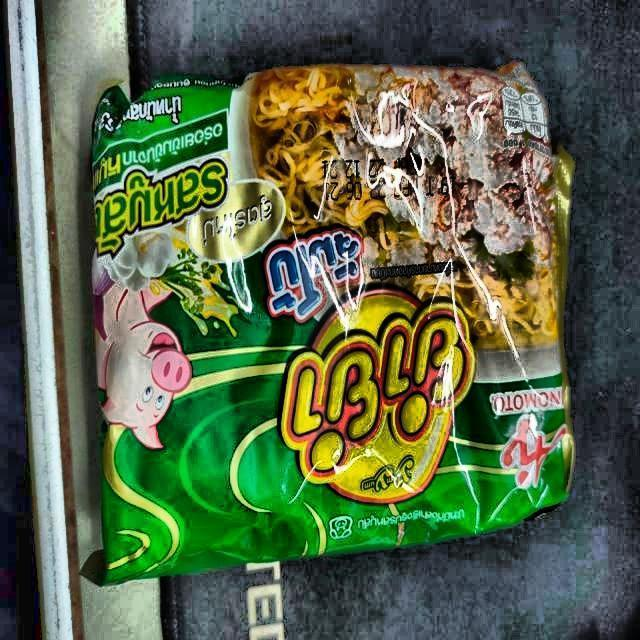Anorganik: (62, 40, 593, 591)
